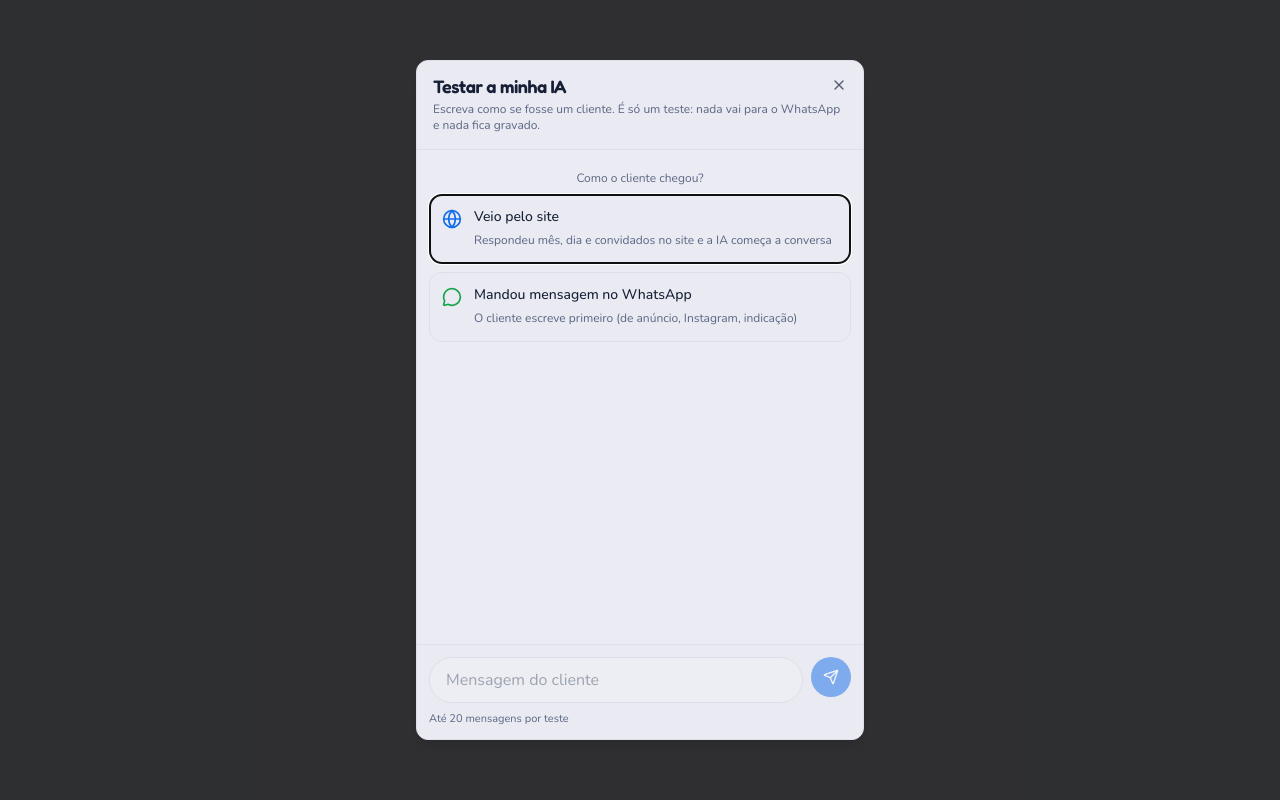
Scenario: AiTestChat › começa como lead do site, com os dados que ele respondeu
Click the text "Veio pelo site" at (516,216), box left=474, top=207, right=559, bottom=226
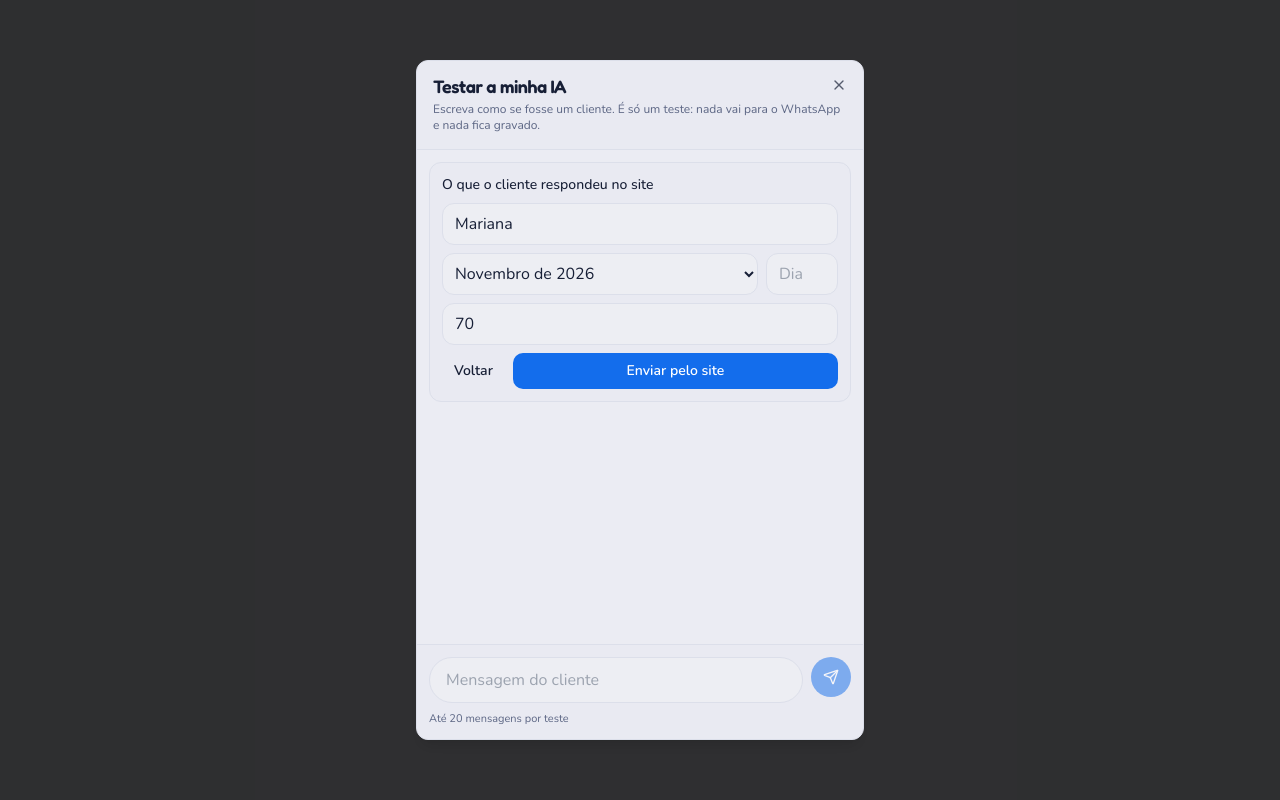
Type "14" into the field labelled "Dia" at (802,274), box left=766, top=253, right=838, bottom=295
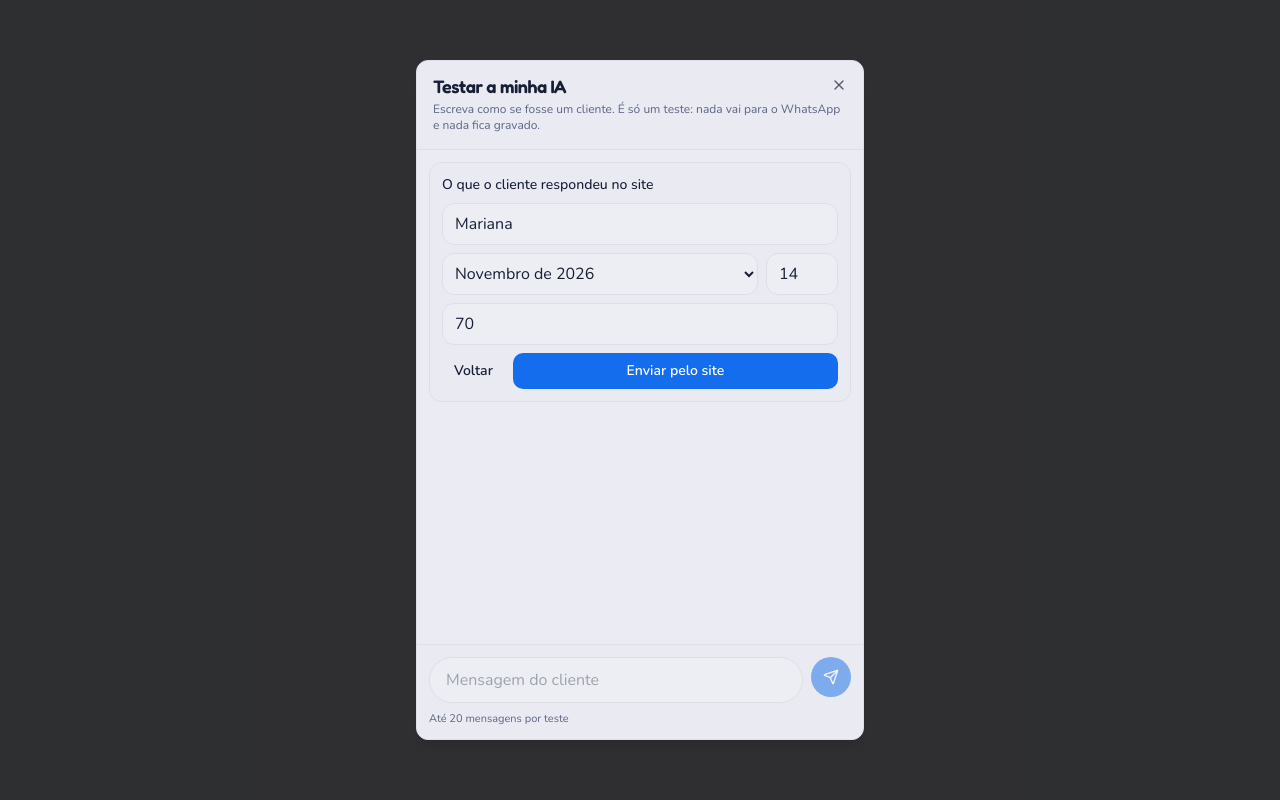
Click the button "Enviar pelo site" at (675,371), box left=513, top=353, right=838, bottom=389
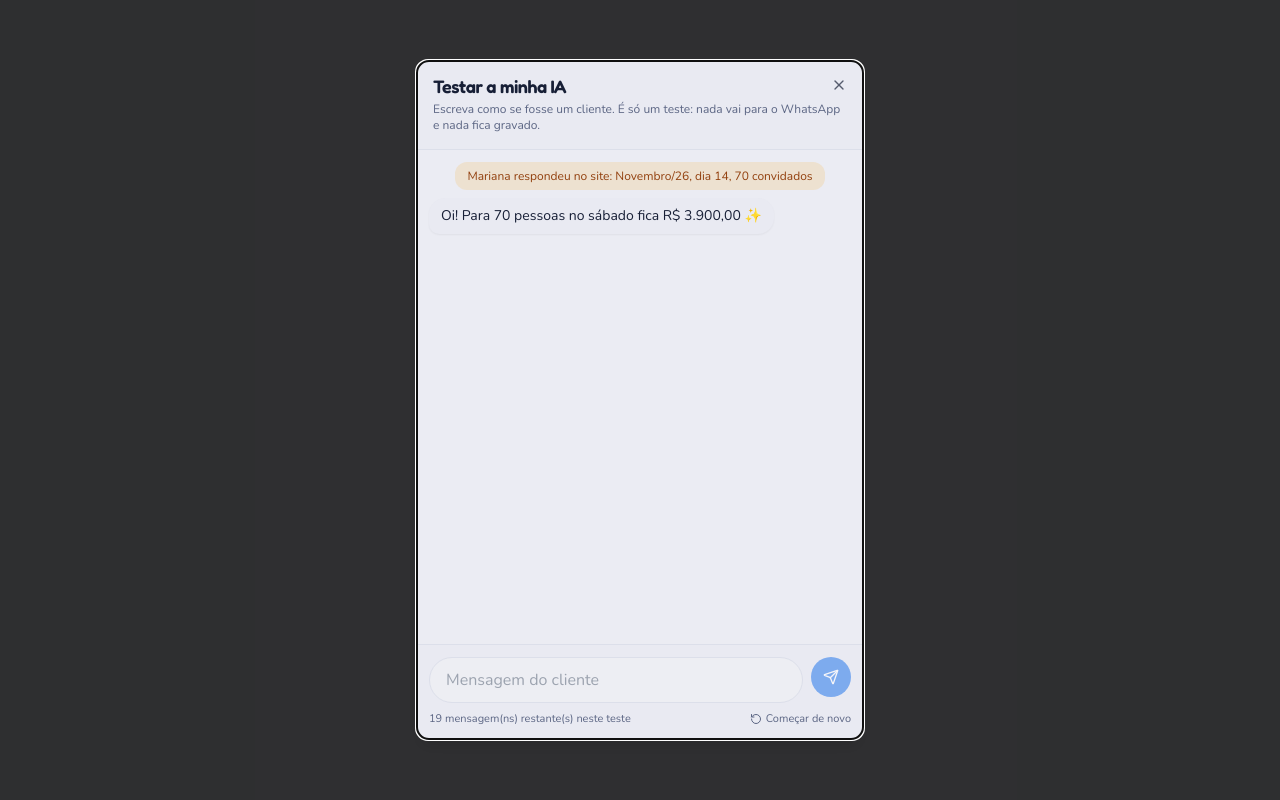
Check: the text "respondeu no site" is shown, box left=467, top=168, right=813, bottom=184
